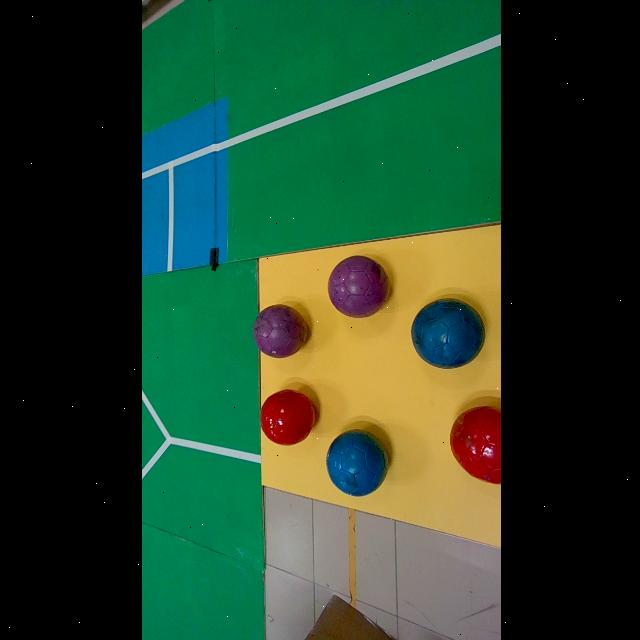B: (409, 298, 483, 369), (324, 430, 387, 496)
P: (326, 255, 388, 318), (251, 306, 305, 357)
R: (449, 406, 500, 484), (258, 390, 314, 445)
